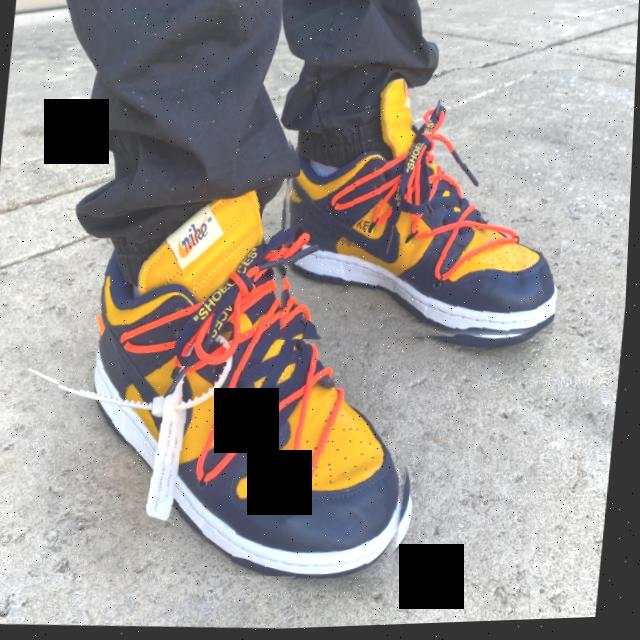shoe: (46, 181, 446, 592), (270, 59, 580, 357)
